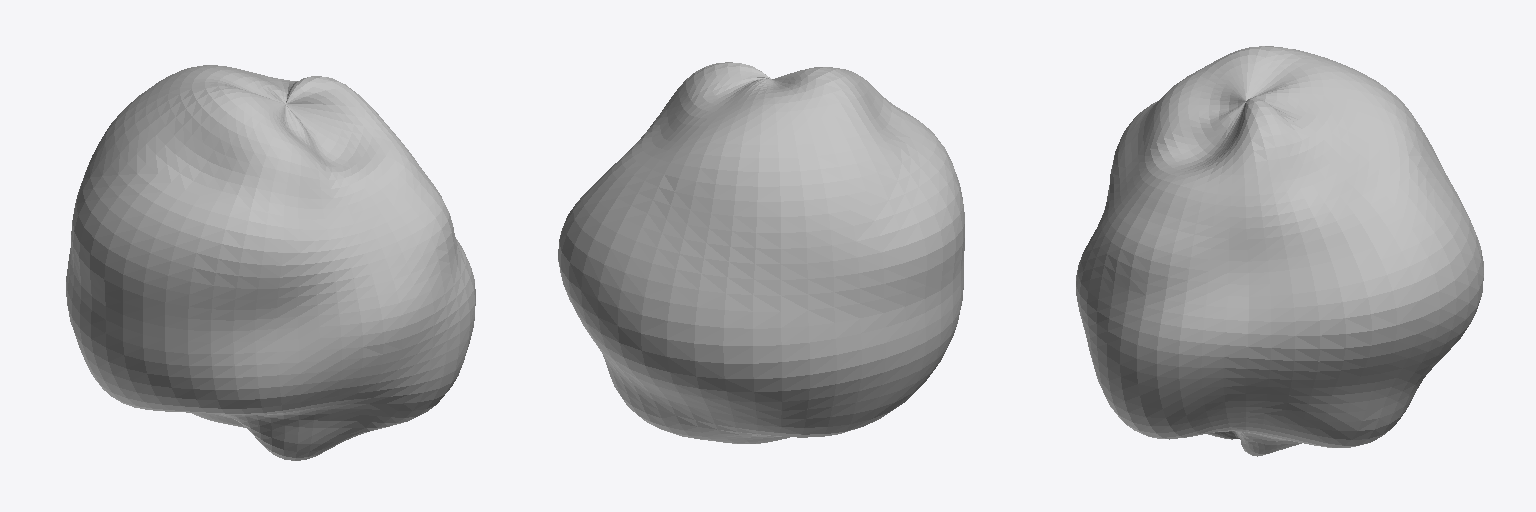
The model's file is cloud.obj.
3 renders of one model, left to right at view 1: azimuth 30°, elevation 25°; view 2: azimuth 150°, elevation 25°; view 3: azimuth 270°, elevation 25°, orthographic.
Bounding box in the file's own units: 1.6 × 1.65 × 1.65.